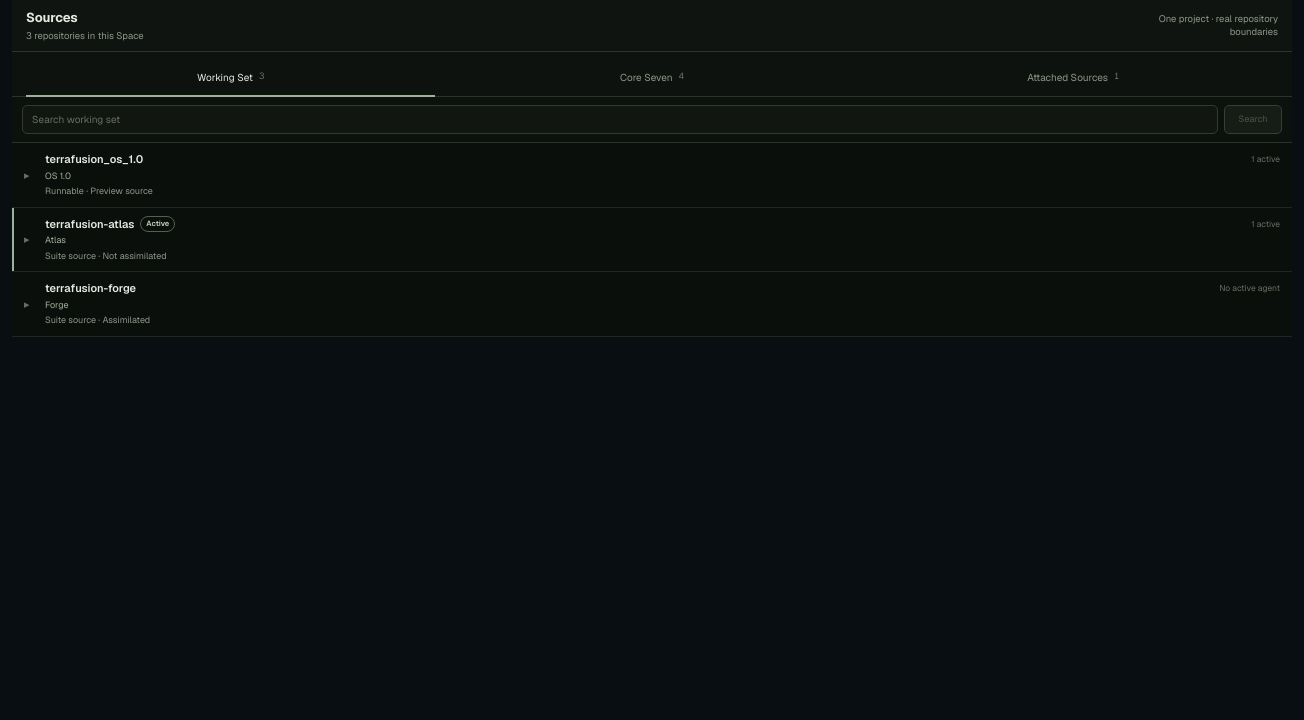
Test case: Experience V2 repository shelf › shows exact mount, revision, worktree, agent, and truth state after explicit expansion
The image size is (1304, 720).
Click the button with aria-label "Repository terrafusion-atlas,".
click(90, 224)  # box [12, 208, 1292, 271]
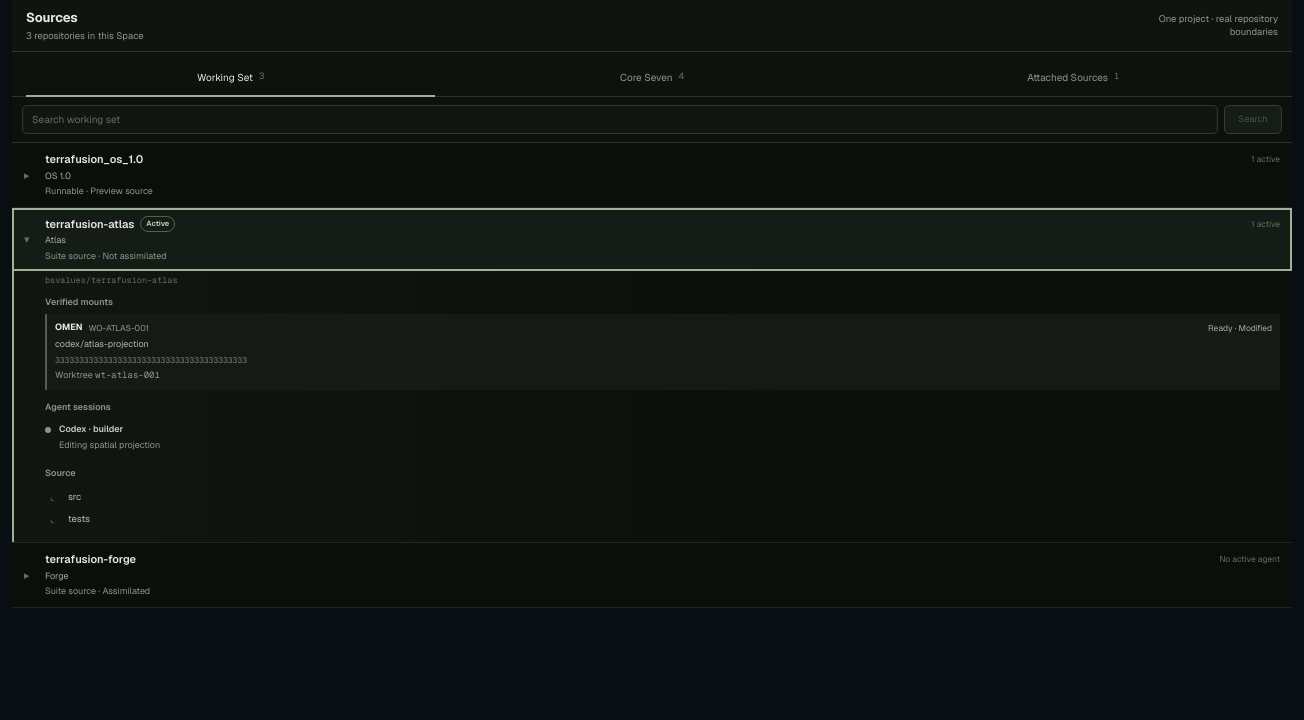
Result: the text "OMEN" is shown at [55, 321, 82, 335]
Result: the text "codex/atlas-projection" is shown at [55, 338, 149, 350]
Result: the text "3333333333333333333333333333333333333333" is shown at [55, 355, 247, 365]
